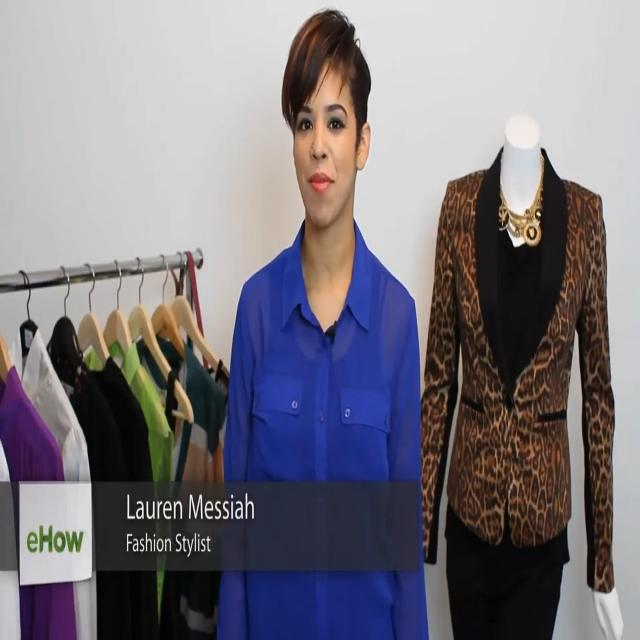Shirt: (216, 216, 429, 640)
